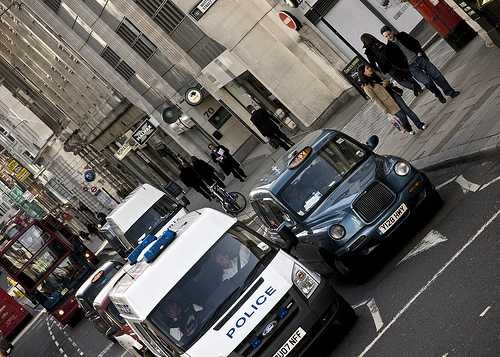Police Van: (98, 221, 344, 357)
